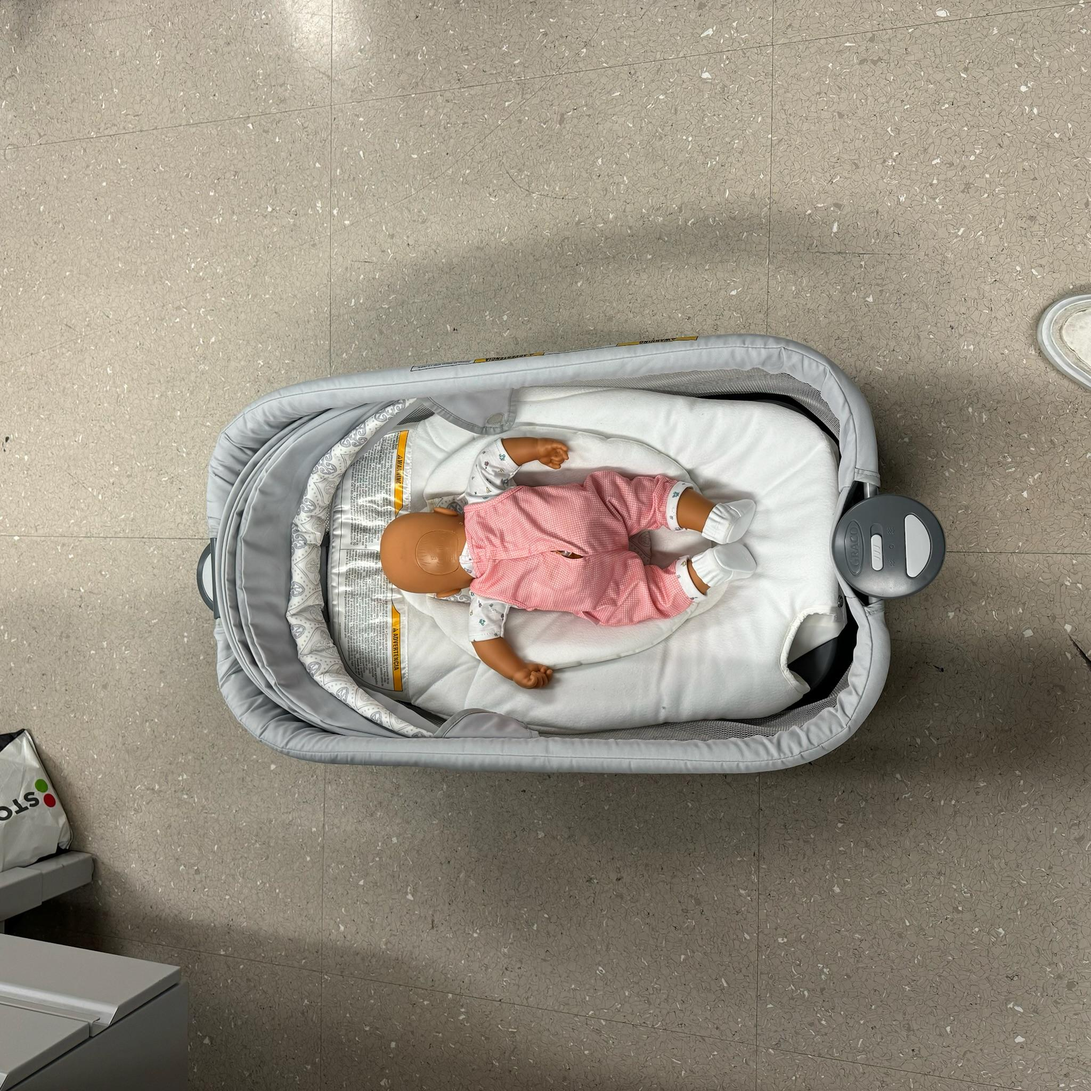baby: (369, 434, 765, 689)
